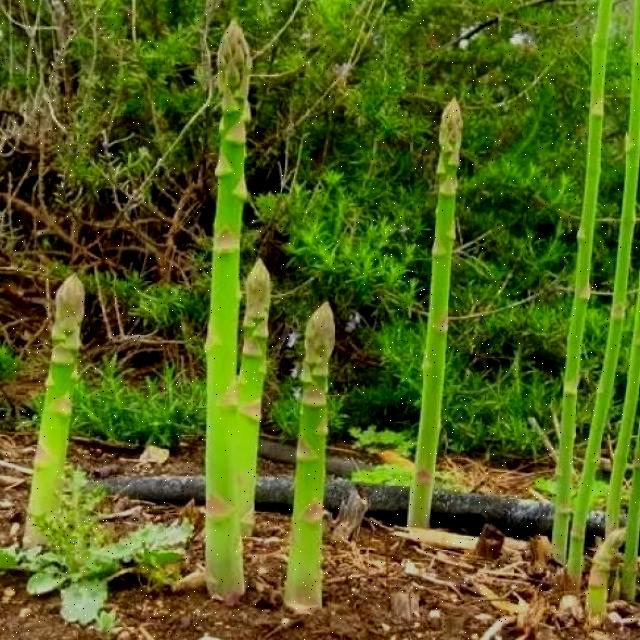aspargus: (198, 15, 258, 595), (408, 101, 462, 531), (20, 268, 93, 552), (284, 304, 336, 616)
